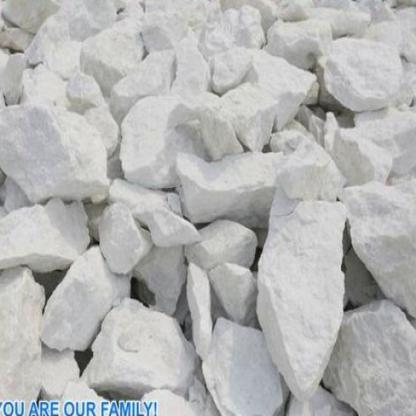Sedimentary_Limestone: (256, 188, 345, 402), (0, 82, 111, 202), (120, 84, 228, 191), (326, 290, 415, 415), (83, 299, 193, 399), (40, 241, 137, 349), (344, 174, 415, 314), (200, 307, 290, 415), (236, 28, 316, 140), (323, 32, 414, 108), (0, 208, 97, 273), (187, 219, 262, 280), (96, 187, 150, 271), (138, 199, 200, 247)
